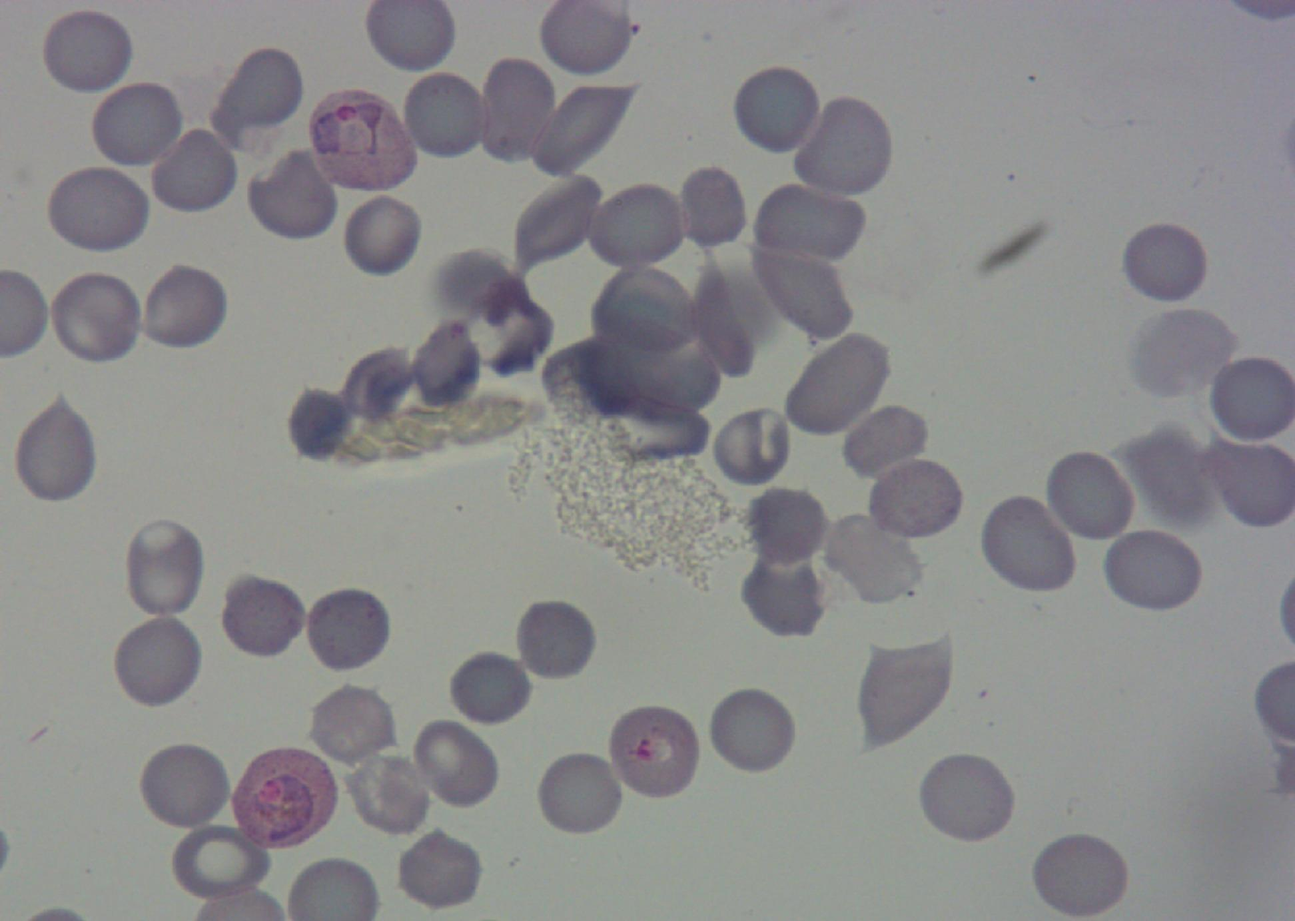Infected: (226, 744, 342, 851), (305, 85, 416, 191)
Uninfected: (1116, 426, 1219, 531), (855, 637, 953, 747), (785, 336, 889, 437), (795, 92, 892, 199), (751, 245, 855, 342), (610, 325, 723, 412), (1132, 303, 1240, 393), (592, 266, 696, 357), (47, 270, 145, 366), (979, 496, 1077, 592), (46, 161, 149, 252), (11, 399, 100, 503), (1099, 525, 1204, 613), (110, 614, 205, 709), (532, 83, 630, 175), (586, 182, 688, 270), (822, 513, 920, 604), (246, 146, 340, 240), (148, 121, 240, 217), (1043, 449, 1136, 543), (919, 752, 1015, 843), (38, 5, 135, 95), (88, 80, 185, 170), (123, 516, 207, 619), (512, 170, 604, 264), (731, 63, 823, 156), (705, 685, 799, 776), (138, 742, 232, 832), (409, 717, 500, 809), (544, 343, 642, 428), (478, 59, 558, 162), (209, 47, 302, 135), (534, 749, 626, 837), (306, 683, 399, 770), (755, 183, 864, 257), (400, 71, 491, 159), (139, 263, 230, 351), (602, 388, 711, 461), (302, 585, 392, 673), (740, 550, 828, 639), (1207, 358, 1294, 448), (345, 751, 434, 838), (220, 579, 308, 664), (395, 829, 485, 912), (866, 458, 961, 536), (172, 826, 272, 900), (1035, 836, 1126, 916), (340, 193, 424, 278), (841, 405, 932, 483), (514, 598, 598, 682), (696, 260, 755, 376), (447, 650, 533, 729), (410, 323, 480, 415), (674, 163, 748, 249), (716, 405, 790, 488), (340, 346, 417, 422), (285, 382, 358, 462), (1121, 226, 1206, 294), (743, 487, 823, 558)
